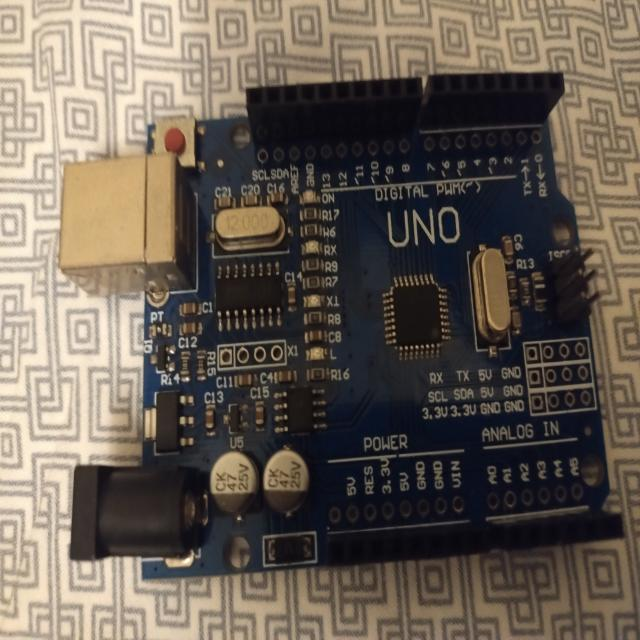arduino: (43, 60, 634, 579)
